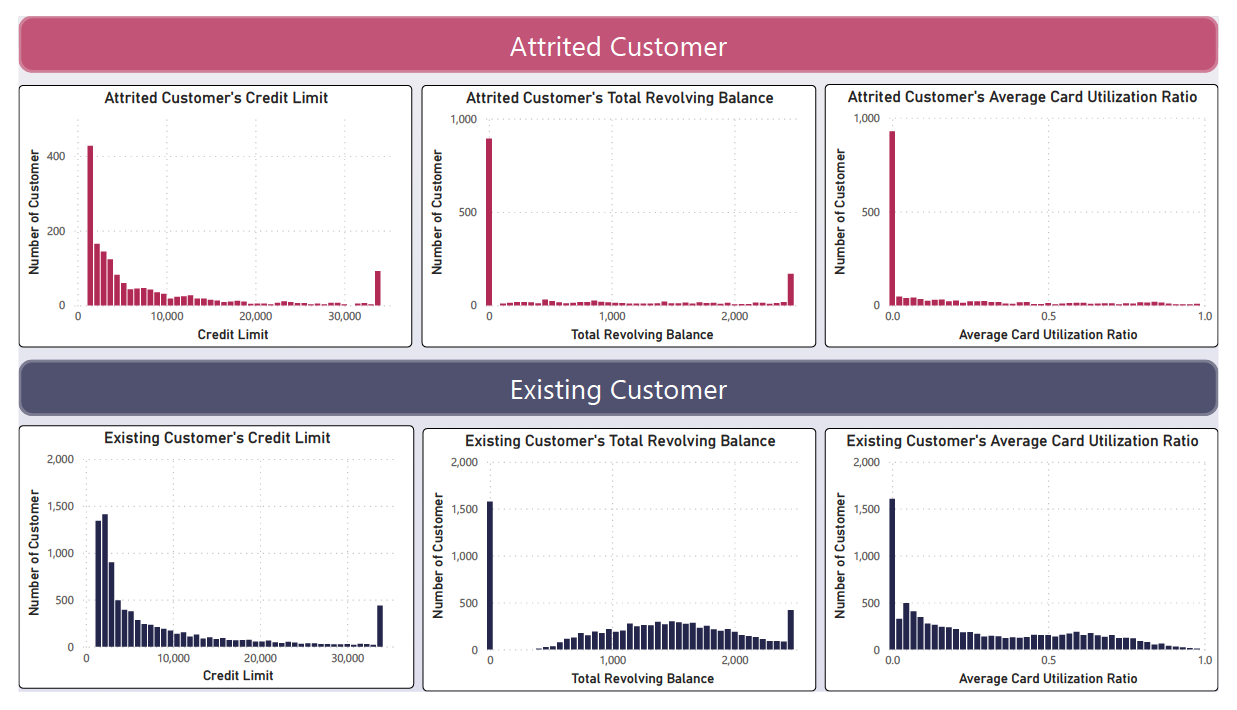

This screenshot's page, from the dashboard's own definition file:
{"tool":"powerbi","page":{"name":"Credit Usage","canvas":[1280,720],"ordinal":2},"visuals":[{"type":"clusteredColumnChart","title":"Existing Customer''s Credit Limit","fields":{"Category":["BankChurners.Credit_Limit (bins)"],"Y":["CountNonNull(BankChurners.CLIENTNUM)"]},"box":[0,436.3,422.5,280.8],"z":0},{"type":"clusteredColumnChart","title":"Existing Customer''s Total Revolving Balance","fields":{"Category":["BankChurners.Total_Revolving_Bal (bins)"],"Y":["CountNonNull(BankChurners.CLIENTNUM)"]},"box":[431.1,438.7,420,280.8],"z":1000},{"type":"clusteredColumnChart","title":"Existing Customer''s Average Card Utilization Ratio","fields":{"Category":["BankChurners.Avg_Utilization_Ratio (bins)"],"Y":["CountNonNull(BankChurners.CLIENTNUM)"]},"box":[859.7,439.2,420,280.8],"z":2000},{"type":"shape","box":[0.2,366.1,1279.8,60.4],"z":3000},{"type":"clusteredColumnChart","title":"Attrited Customer''s Credit Limit","fields":{"Category":["BankChurners.Credit_Limit (bins)"],"Y":["CountNonNull(BankChurners.CLIENTNUM)"]},"box":[0.2,72.5,420,280.8],"z":4000},{"type":"clusteredColumnChart","title":"Attrited Customer''s Total Revolving Balance","fields":{"Category":["BankChurners.Total_Revolving_Bal (bins)"],"Y":["CountNonNull(BankChurners.CLIENTNUM)"]},"box":[430.1,72.5,421.3,280.8],"z":5000},{"type":"clusteredColumnChart","title":"Attrited Customer''s Average Card Utilization Ratio","fields":{"Category":["BankChurners.Avg_Utilization_Ratio (bins)"],"Y":["CountNonNull(BankChurners.CLIENTNUM)"]},"box":[860,72,420,280.8],"z":6000},{"type":"shape","box":[0.2,-0.6,1279.8,60.4],"z":7000}]}

Visuals, with their boxes in screenshot pixels (x1, y1, x2, y2), scaled from the page's 1280x720 canvas onto the 1237x710 screenshot:
"Existing Customer''s Credit Limit" clusteredColumnChart: left=0, top=430, right=408, bottom=707
"Existing Customer''s Total Revolving Balance" clusteredColumnChart: left=417, top=433, right=823, bottom=709
"Existing Customer''s Average Card Utilization Ratio" clusteredColumnChart: left=831, top=433, right=1236, bottom=709
shape: left=0, top=361, right=1236, bottom=421
"Attrited Customer''s Credit Limit" clusteredColumnChart: left=0, top=71, right=406, bottom=348
"Attrited Customer''s Total Revolving Balance" clusteredColumnChart: left=416, top=71, right=823, bottom=348
"Attrited Customer''s Average Card Utilization Ratio" clusteredColumnChart: left=831, top=71, right=1236, bottom=348
shape: left=0, top=0, right=1236, bottom=59
